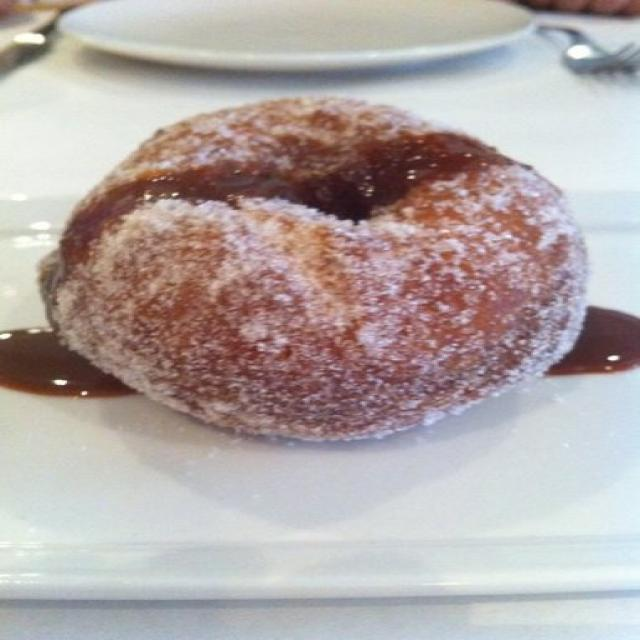Donuts: (33, 81, 640, 492)
